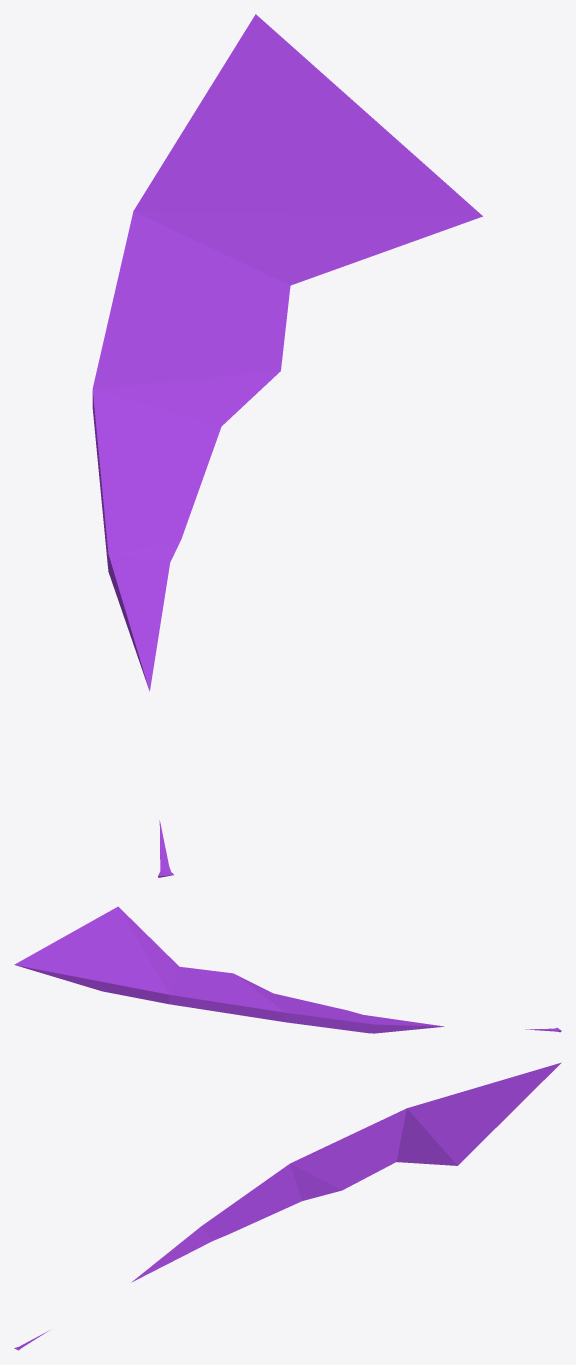
The model's file is Glass_101_3_chunks.fbx.
The picture shows the model from 3 angles, top to bottom: view 1: azimuth 30°, elevation 25°; view 2: azimuth 150°, elevation 25°; view 3: azimuth 330°, elevation 25°; orthographic projection. The views are drawn at different scales.
Visible parts, largest first — view 1: Glass_101_3_1, Glass_101_3_2, Glass_101_3_0, Glass_101_3_3; view 2: Glass_101_3_1, Glass_101_3_0, Glass_101_3_2, Glass_101_3_3; view 3: Glass_101_3_1, Glass_101_3_2, Glass_101_3_0, Glass_101_3_3.
Part boxes in pixels (x1,y1,x2,y2): Glass_101_3_1: (92, 14, 482, 519); Glass_101_3_2: (103, 517, 179, 663); Glass_101_3_0: (95, 414, 174, 542); Glass_101_3_3: (138, 519, 188, 877); Glass_101_3_1: (14, 906, 336, 1025); Glass_101_3_0: (299, 1009, 368, 1030); Glass_101_3_2: (337, 1009, 429, 1033); Glass_101_3_3: (335, 1007, 561, 1032); Glass_101_3_1: (239, 1062, 561, 1228); Glass_101_3_2: (151, 1222, 238, 1266); Glass_101_3_0: (208, 1173, 276, 1225); Glass_101_3_3: (14, 1227, 240, 1350).
Size of the model in its own units: 1482 by 827 by 2127.
